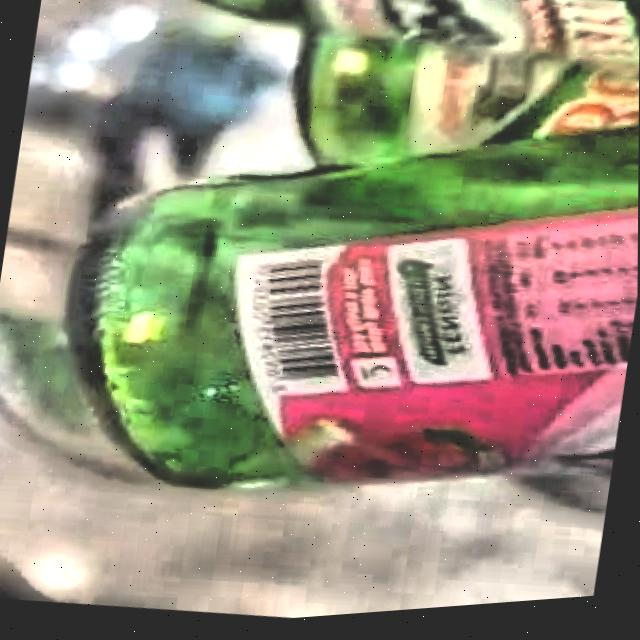glass: (68, 0, 640, 493)
